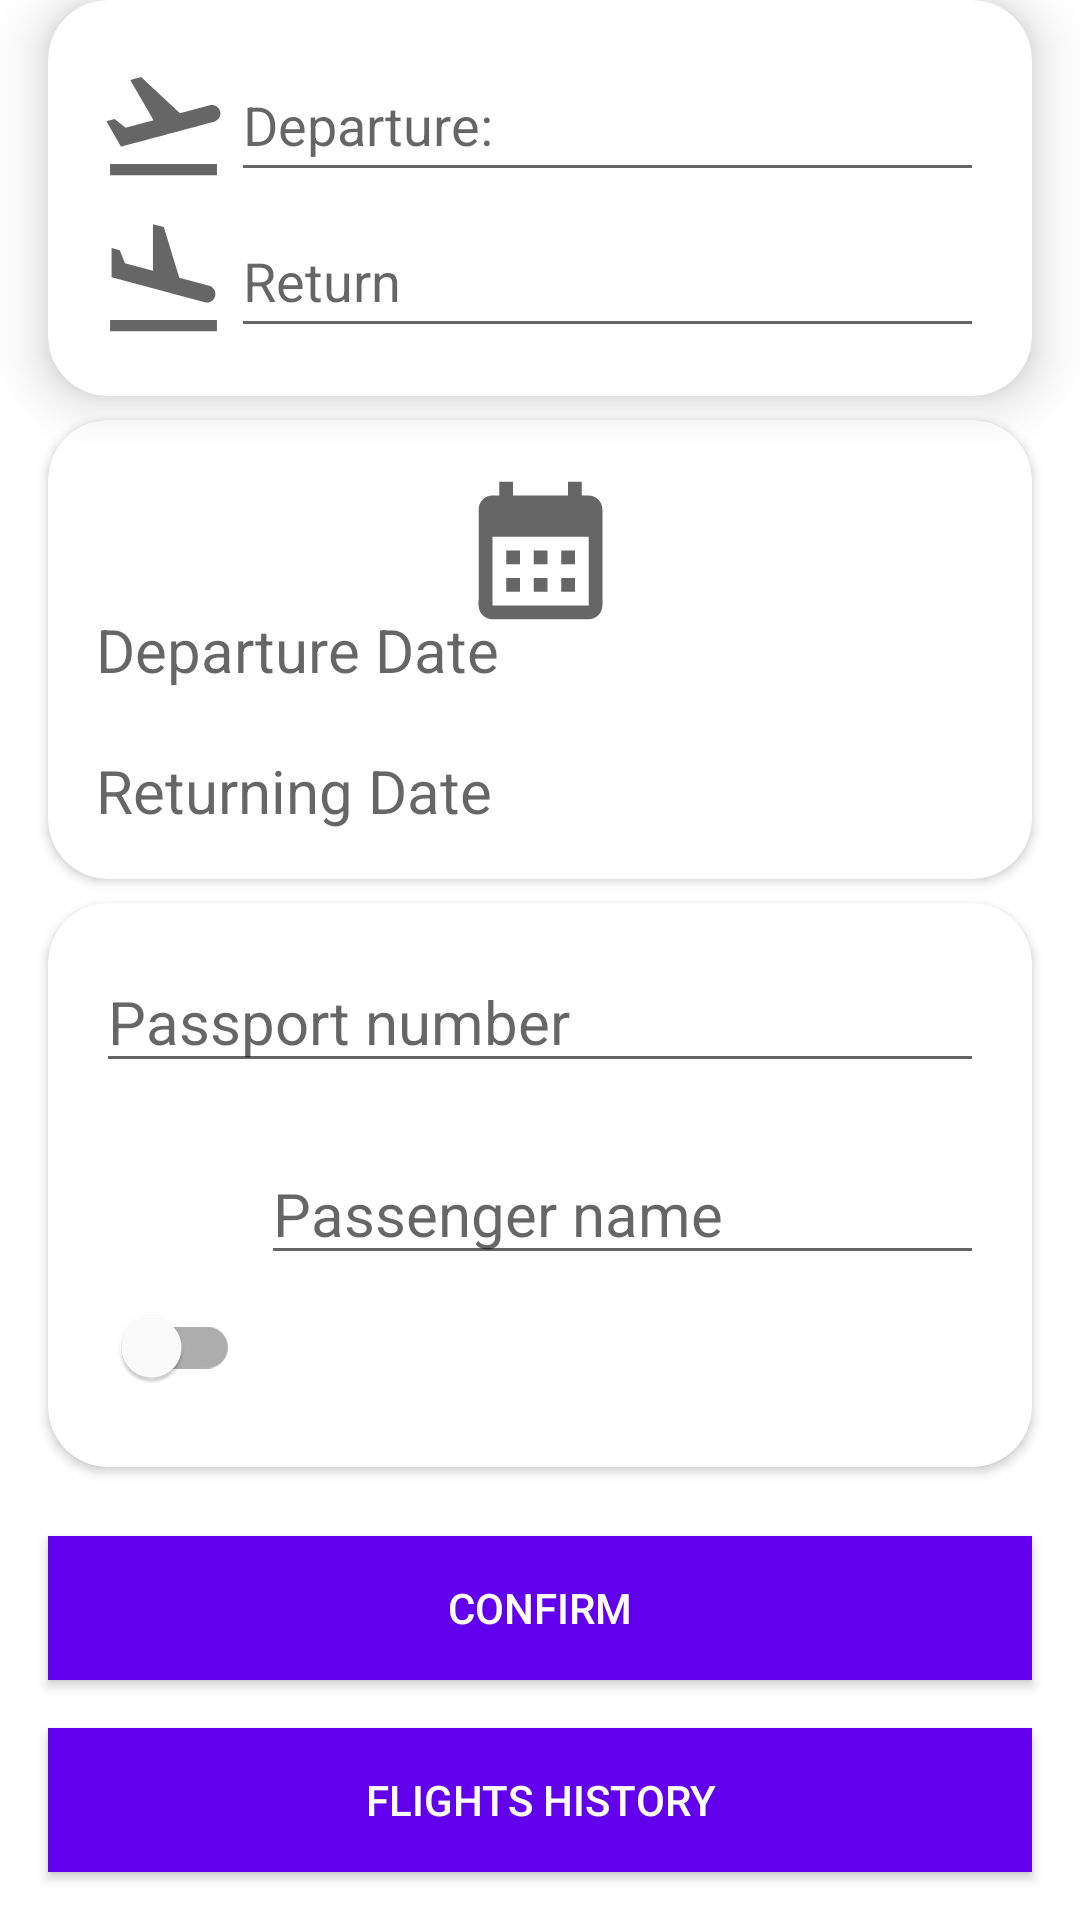

Named icons in this screenshot (1080 x 1920) and their bounding boxes, bbox=(x1, y1, x2, y2):
calendar month: bbox=(478, 481, 603, 620)
flight land: bbox=(110, 224, 217, 332)
flight takeoff: bbox=(106, 77, 221, 176)
